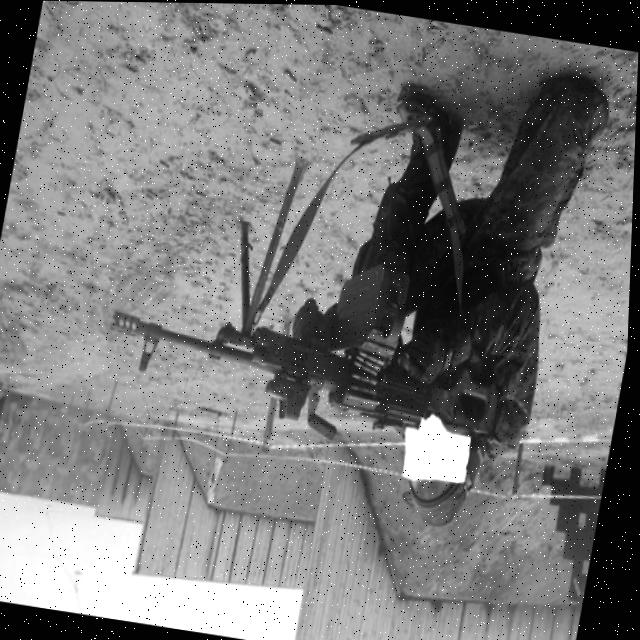firearm: (96, 224, 517, 466)
